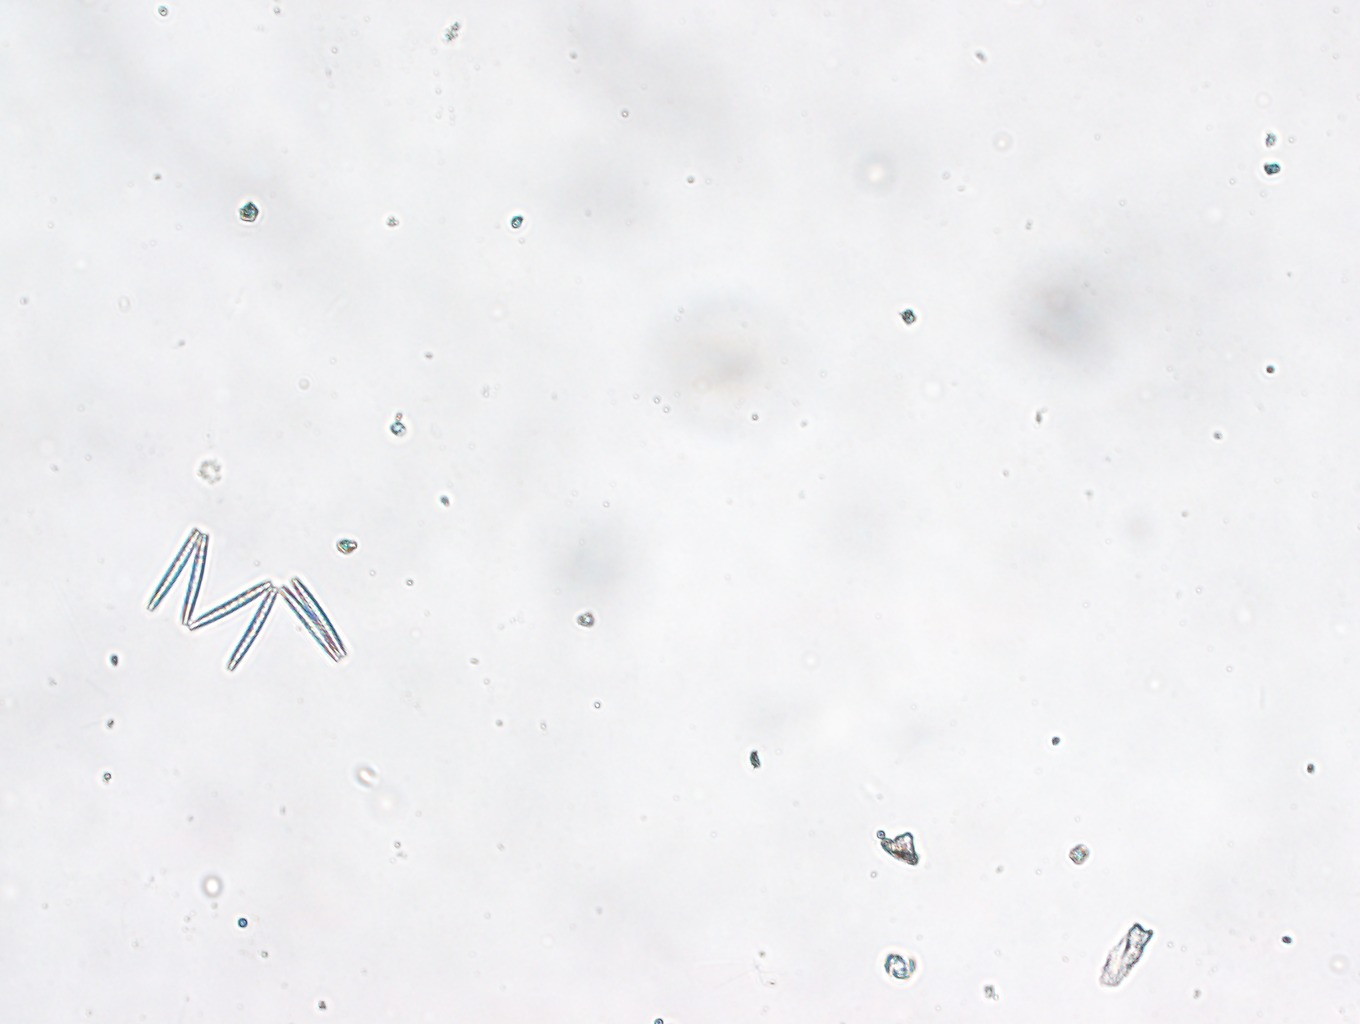thalassionema nitzschioides: (146, 528, 348, 673)
